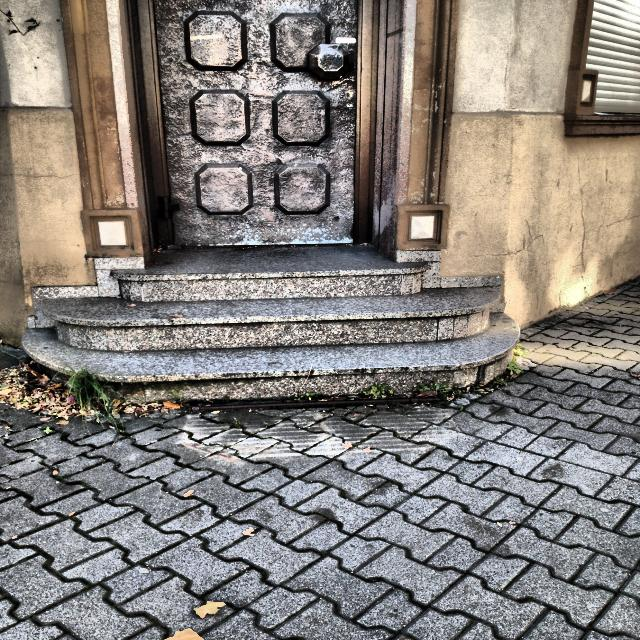escada: (16, 268, 517, 404)
